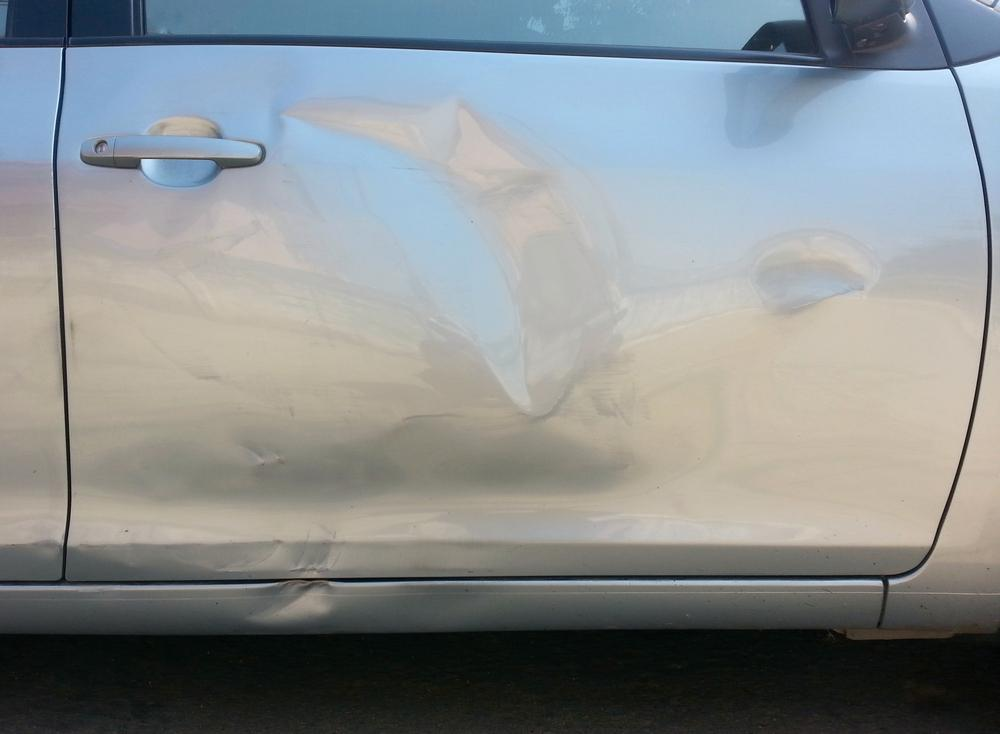dent: (277, 101, 594, 410), (747, 231, 880, 313), (227, 518, 342, 576), (243, 579, 338, 620)
